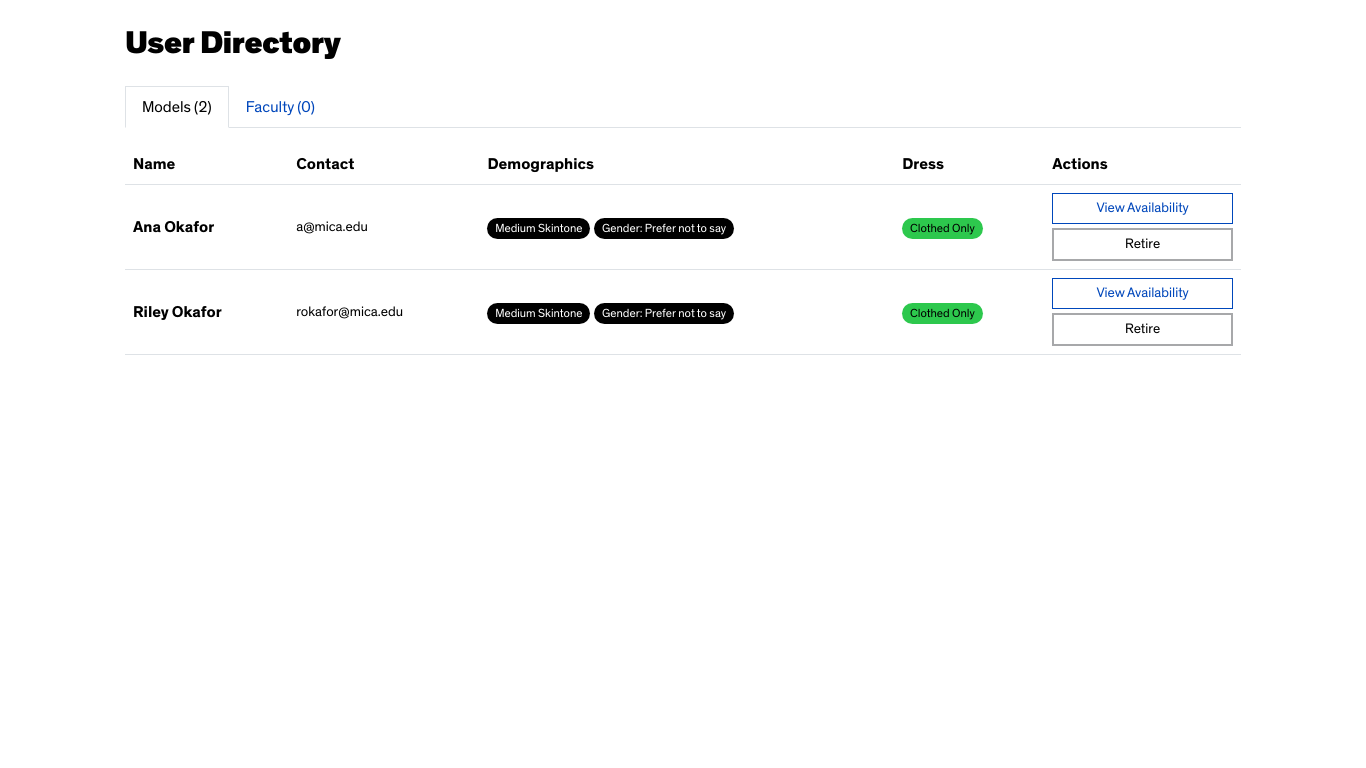
Test case: UserDirectory › retiring and bringing back from the list › retires a model after confirming, and moves them to the end marked Retired
Click the button with aria-label "Retire Riley Okafor".
click(1143, 330)  # box [1052,313,1233,346]
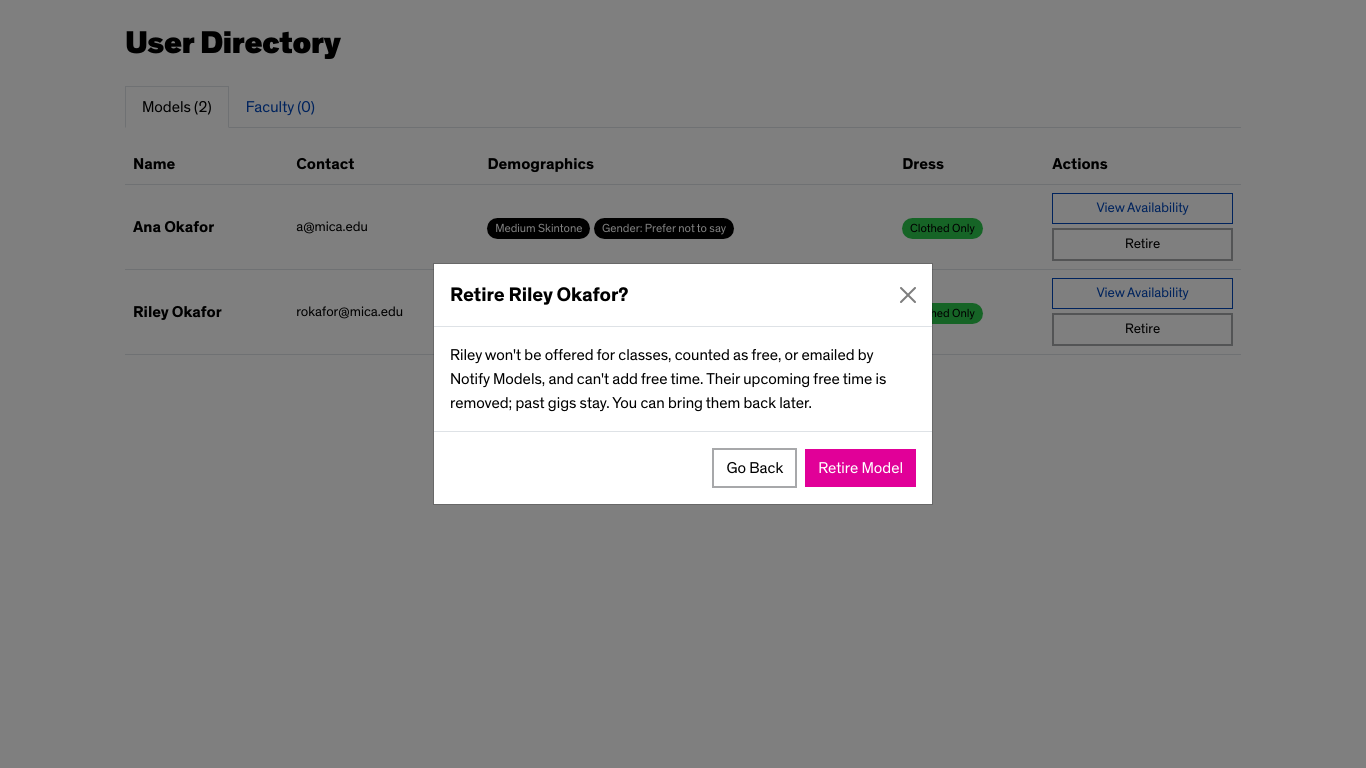
Click the button "Retire Model".
click(861, 468)  # box [805,449,916,487]
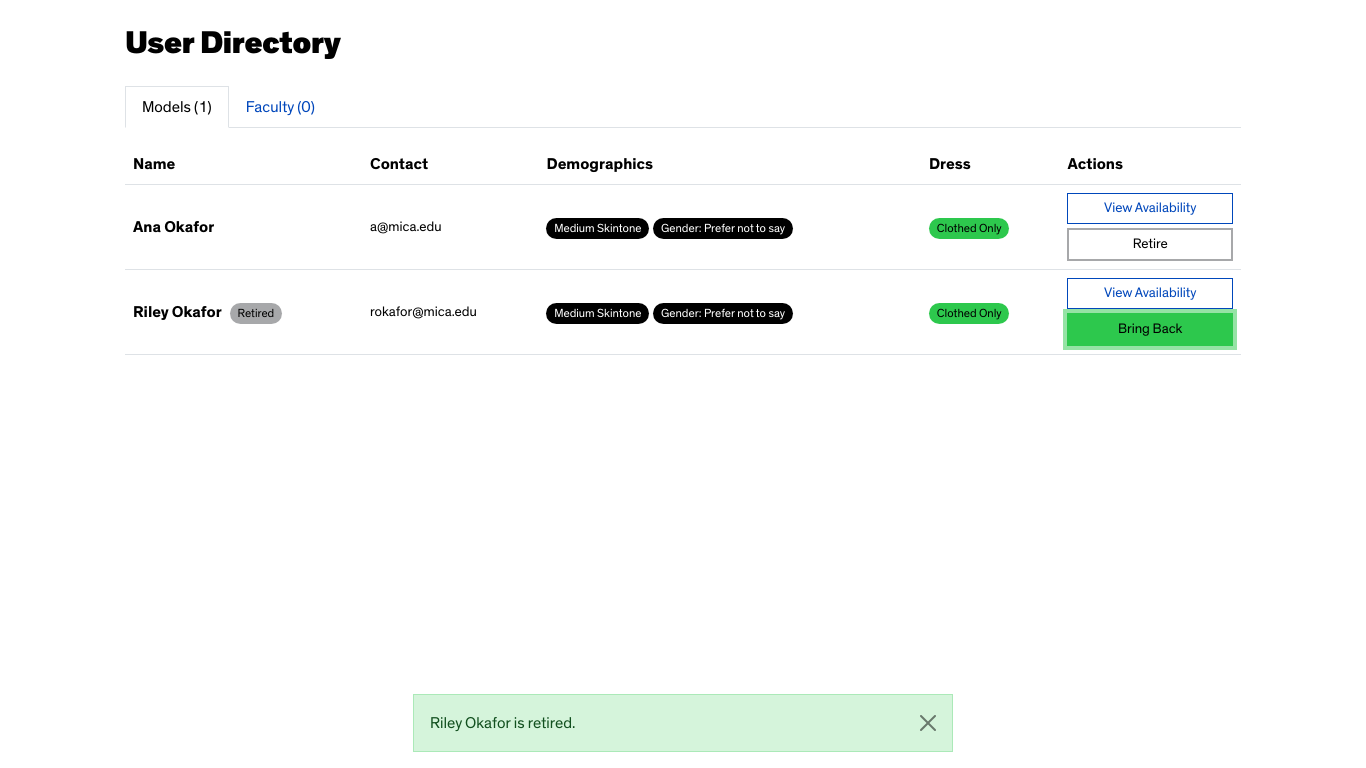
Check: the text "Retired" is shown, box [230,303,282,324]
Check: the button with aria-label "Bring Back Riley Okafor" is shown, box [1068,313,1233,346]
Check: the tab "Models (1)" is shown, box [125,86,229,128]
